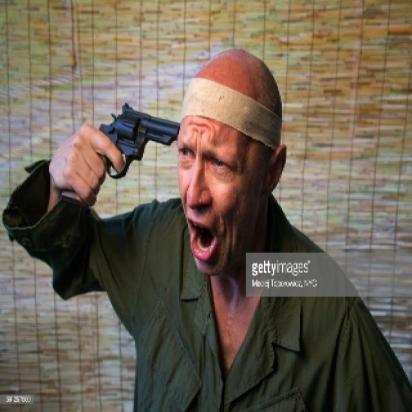Gun: (87, 102, 179, 176)
